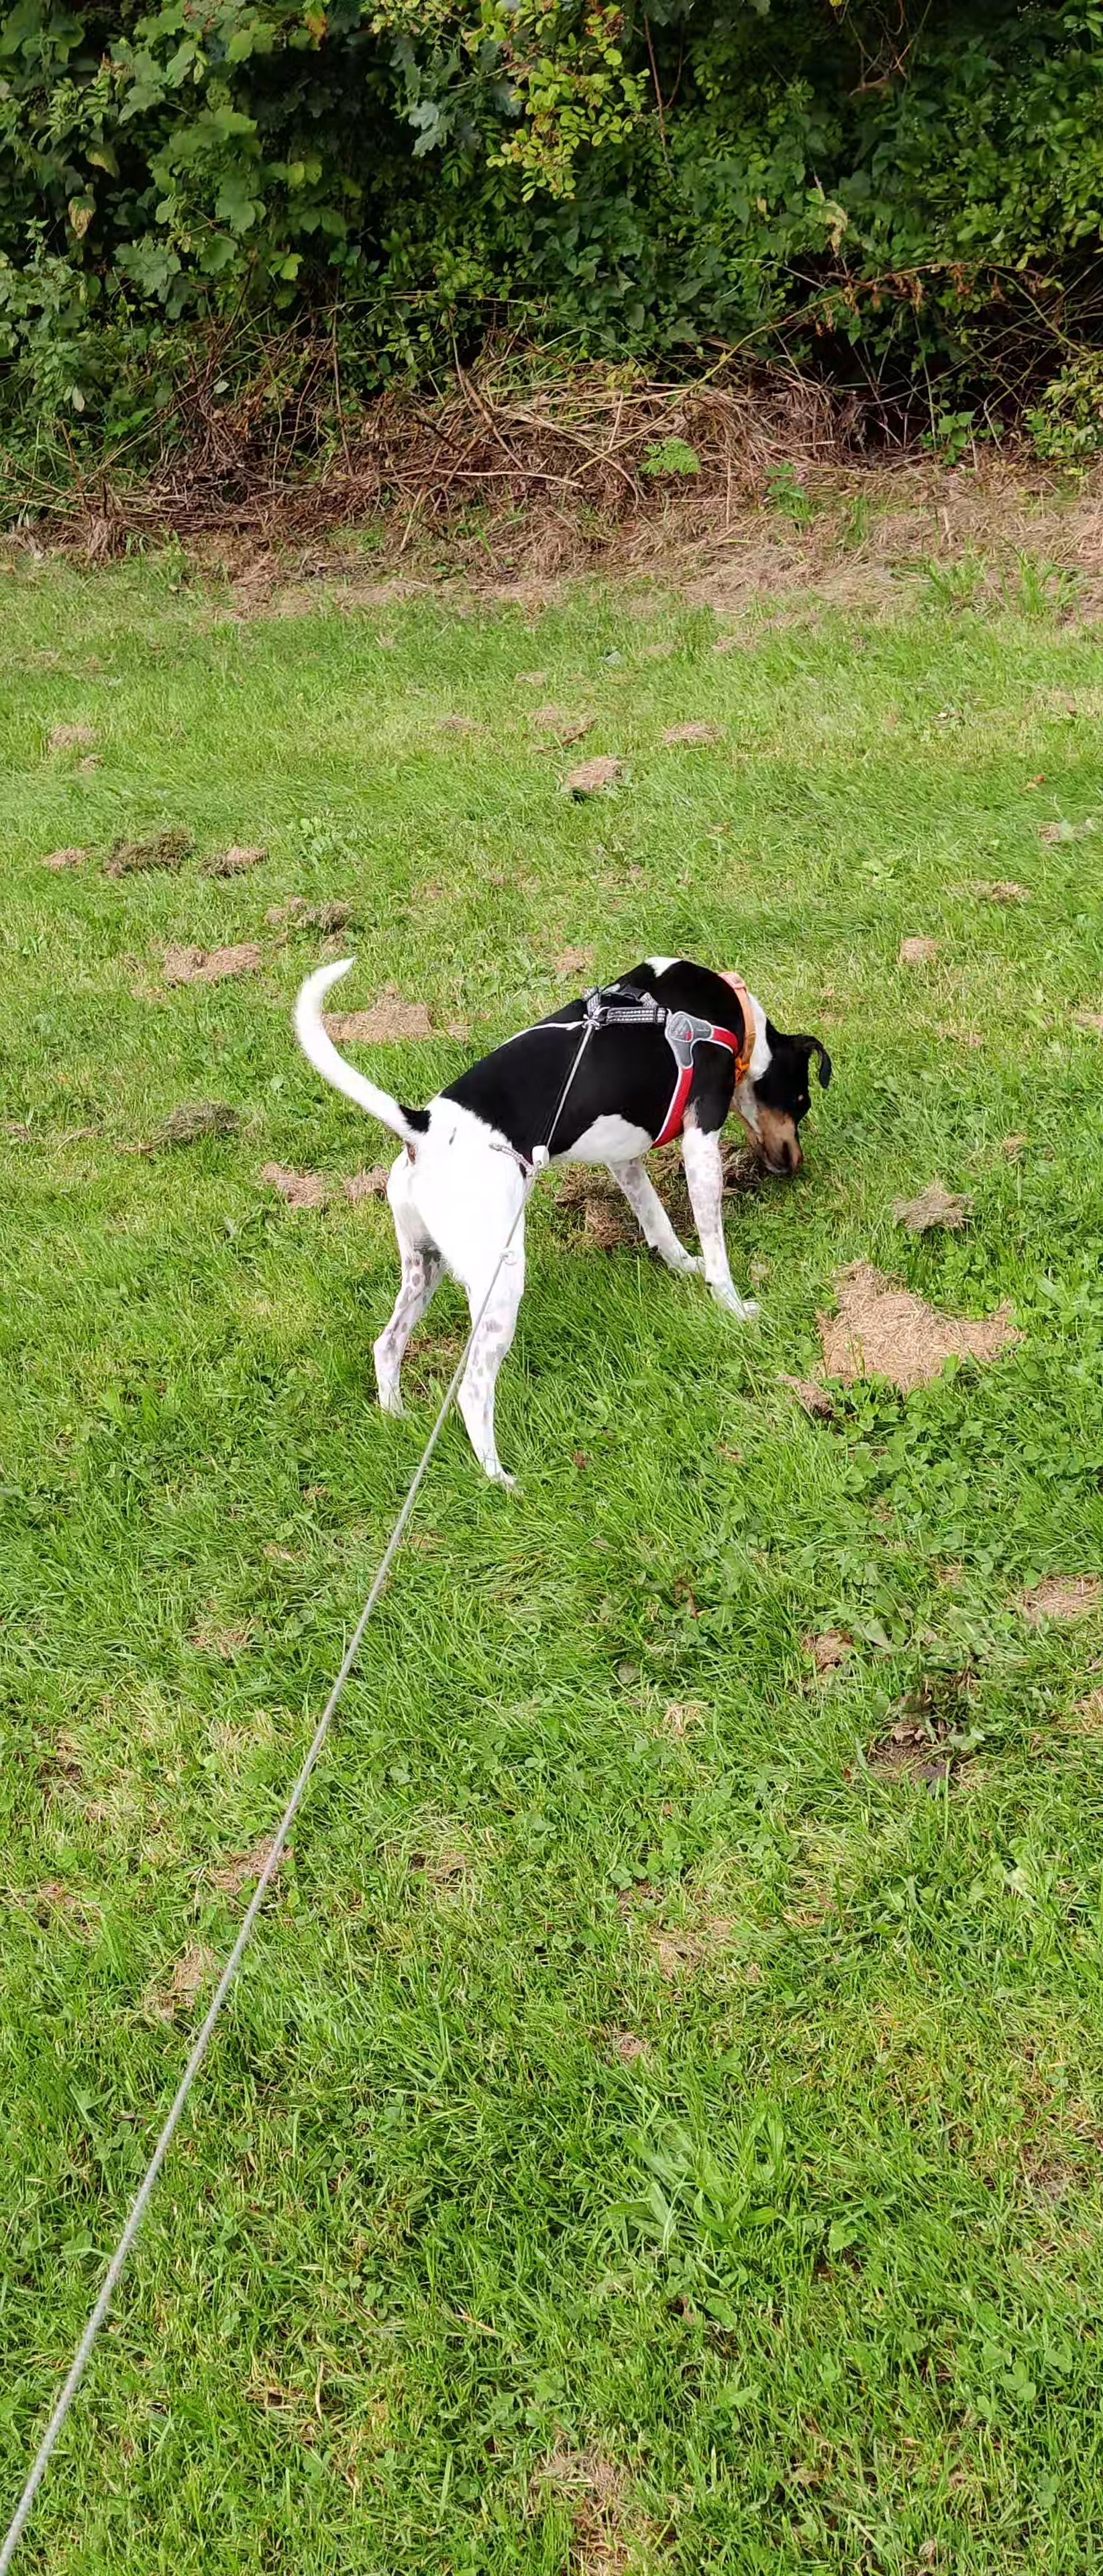Dog: (275, 925, 861, 1511)
